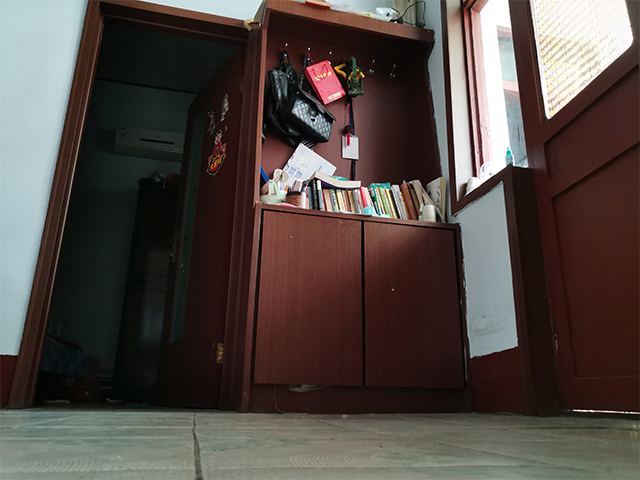bed: (38, 334, 102, 403)
cabinet: (237, 197, 478, 414)
